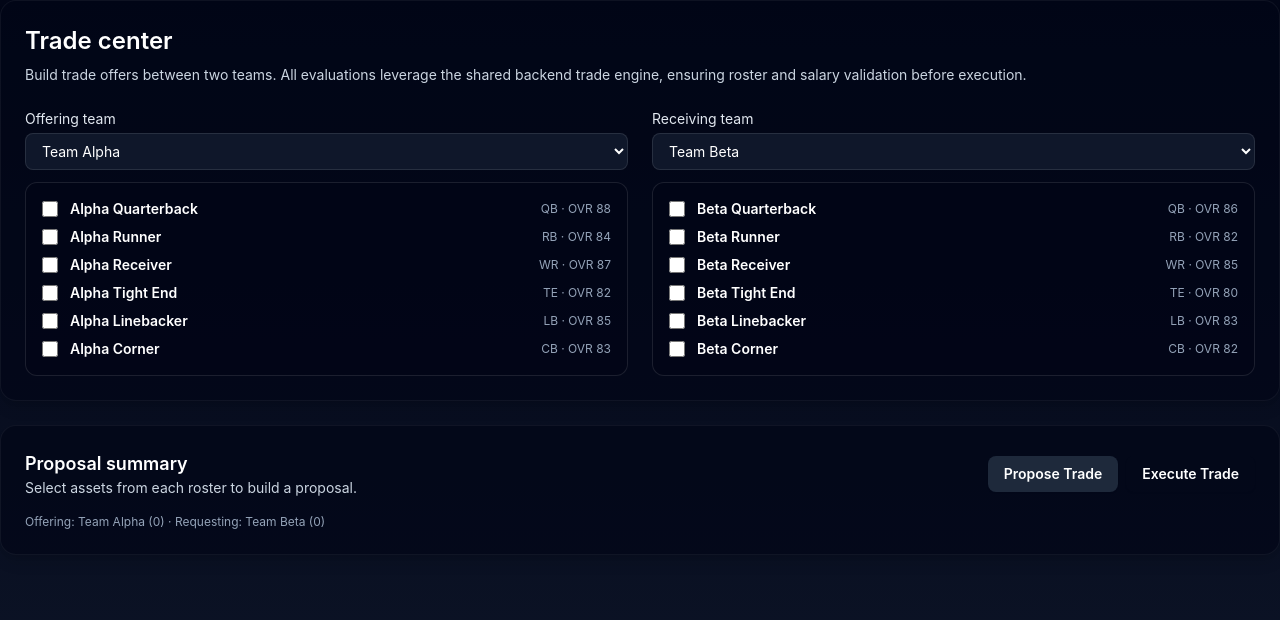
Test: TradeCenterPage › blocks trades that exceed salary cap
The width and height of the screenshot is (1280, 620).
Click the checkbox labelled "Alpha Linebacker". click: [50, 321]
box: [42,313,58,329]
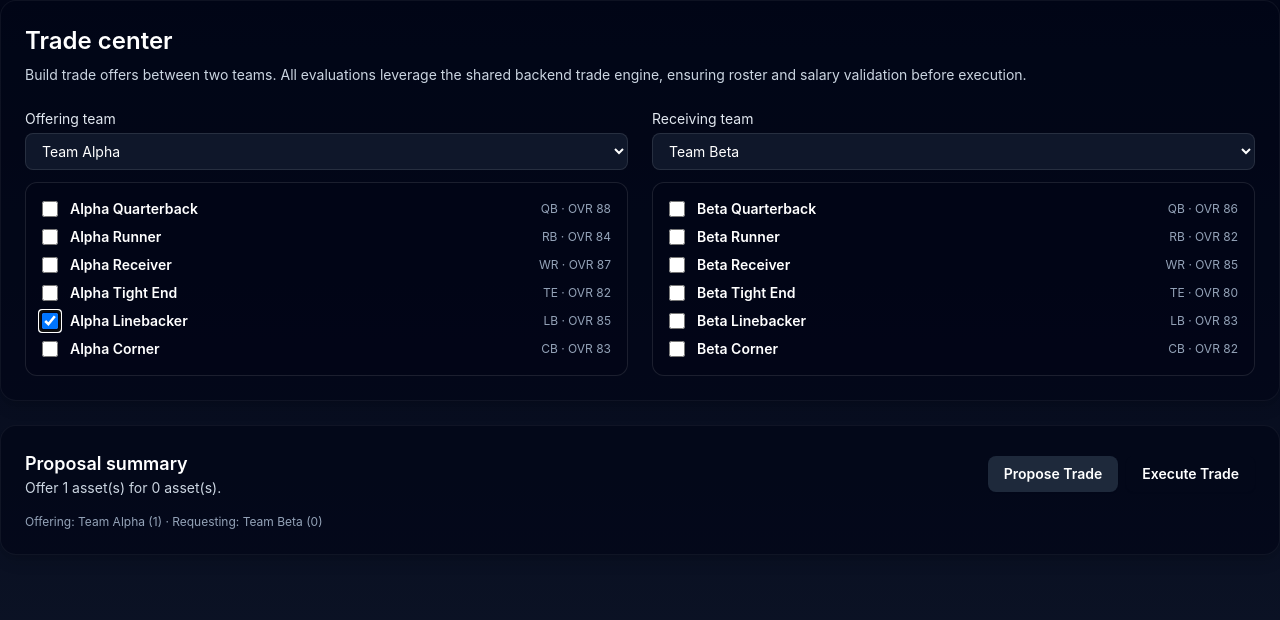
Click the checkbox labelled "Beta Tight End". click: [677, 293]
box: [669,285,685,301]
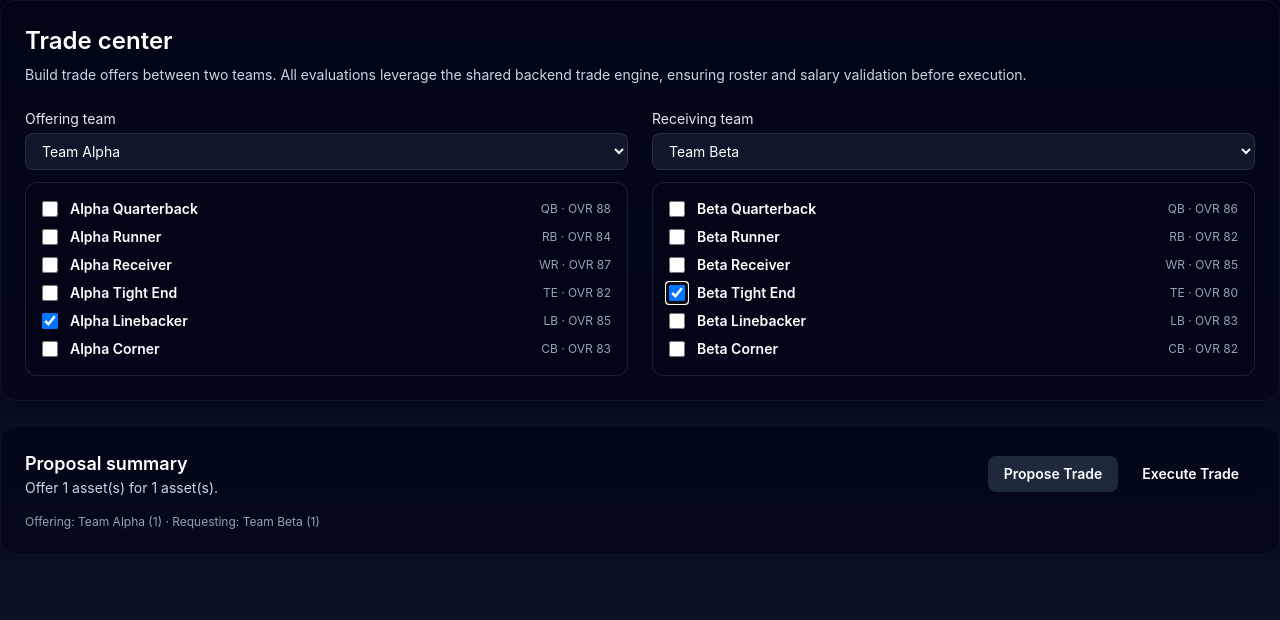
Click the button "Propose Trade". click: [1053, 474]
box: [988,456,1118,492]
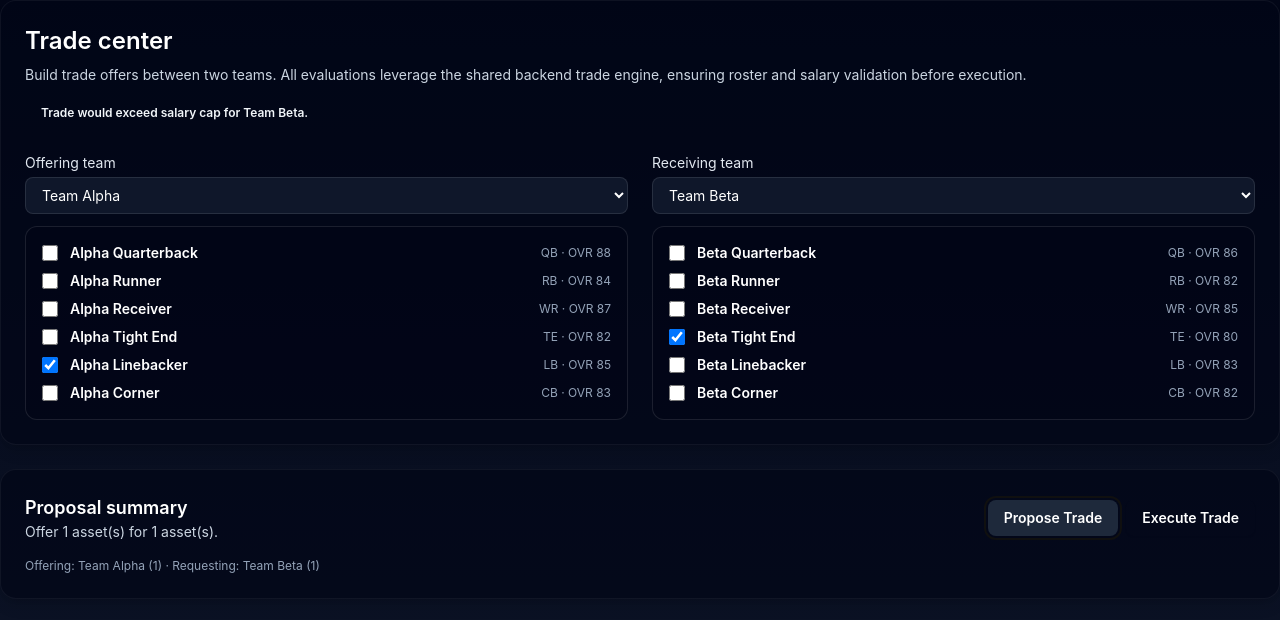
Now the text "Trade would exceed salary cap for Team Beta." is shown, box [41,105,308,120]
